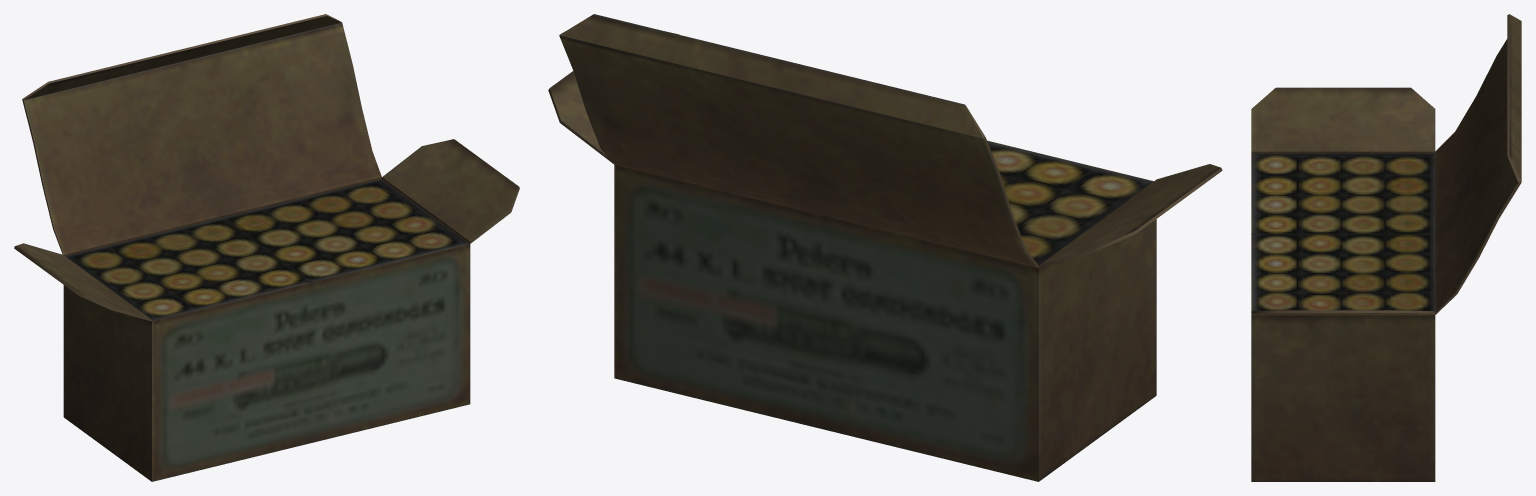
Rendered from ammo_box_mp_4.obj.
3 views of the same model, side by side, from view 1: azimuth 30°, elevation 25°; view 2: azimuth 150°, elevation 25°; view 3: azimuth 270°, elevation 25° (orthographic). The views are drawn at different scales.
Visible parts, largest first — view 1: ammo_box_mp_4; view 2: ammo_box_mp_4; view 3: ammo_box_mp_4.
Boxes of the visible parts, x1,y1,x2,y2 form: ammo_box_mp_4: (14,14,519,481); ammo_box_mp_4: (548,14,1222,481); ammo_box_mp_4: (1251,14,1521,481).
Size of the model in its own units: 5.53 by 3.64 by 2.82.
1 material, 1 textured.
